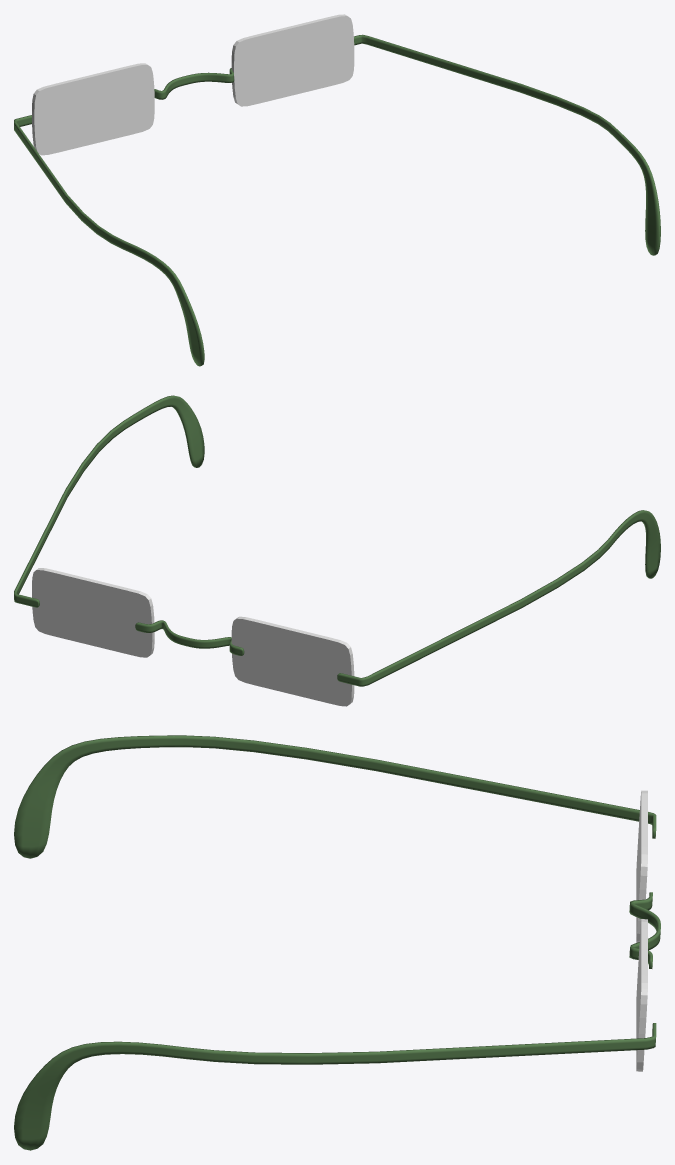
File: Rect Sunglasses.fbx
3 views of the same model, one above another, from view 1: azimuth 30°, elevation 25°; view 2: azimuth 150°, elevation 25°; view 3: azimuth 270°, elevation 25° (orthographic). The views are drawn at different scales.
Visible parts, largest first — view 1: Rect Sunglasses Hi; view 2: Rect Sunglasses Hi; view 3: Rect Sunglasses Hi.
Part boxes in pixels (x1,y1,x2,y2): Rect Sunglasses Hi: (14, 14, 660, 366); Rect Sunglasses Hi: (14, 395, 660, 706); Rect Sunglasses Hi: (14, 735, 660, 1150).
Bounding box in the file's own units: 223 × 38.42 × 194.
